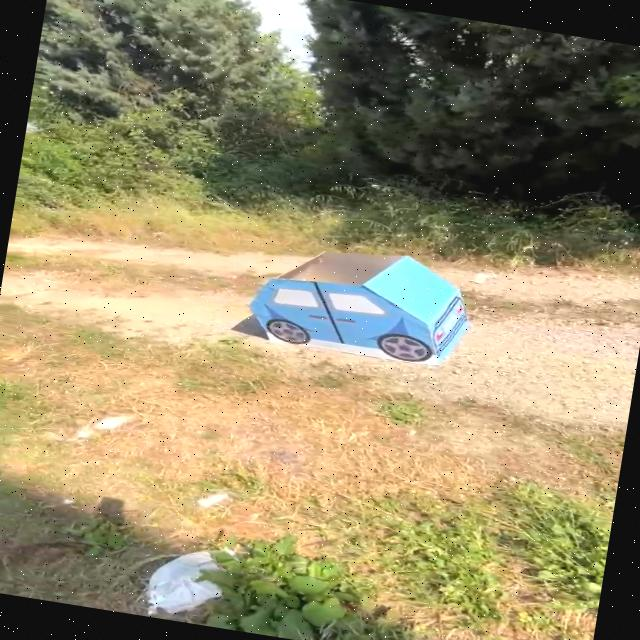blue_car: (217, 225, 517, 393)
